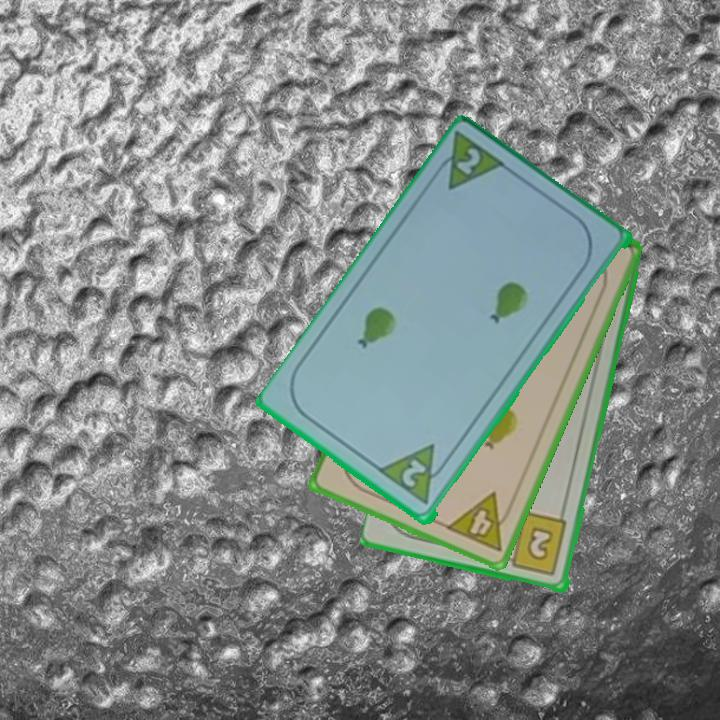2b: (499, 509, 570, 579)
2p: (428, 129, 511, 194), (398, 456, 429, 491)
4p: (442, 489, 518, 555)
